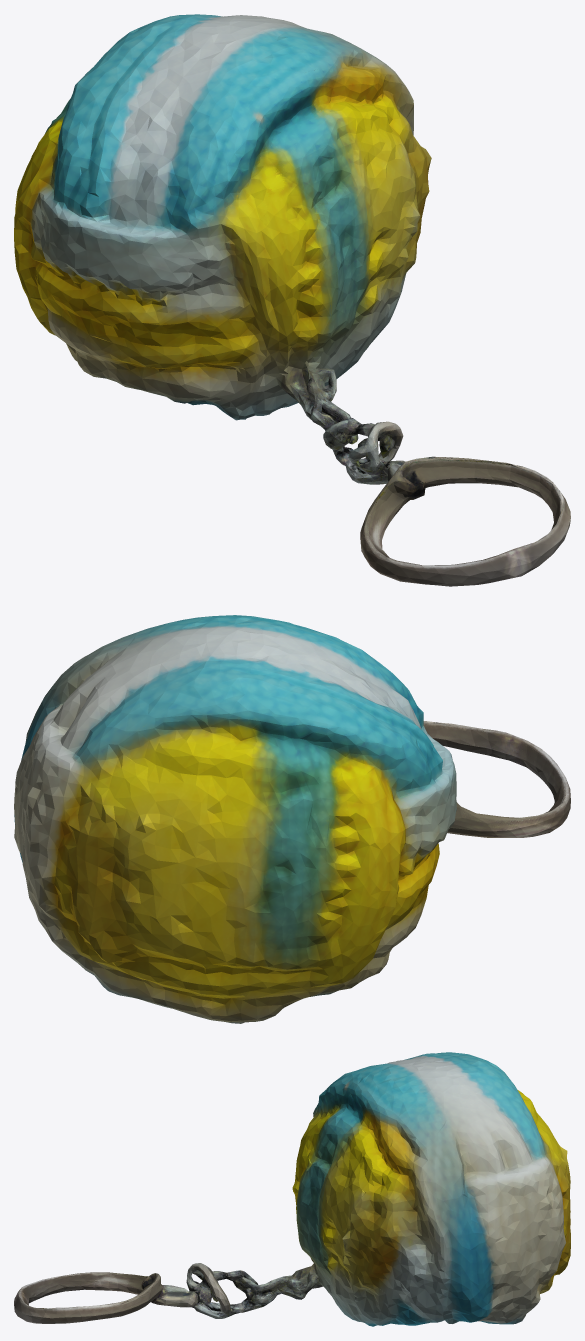
File: baseball.glb
3 views of the same model, one above another, from view 1: azimuth 30°, elevation 25°; view 2: azimuth 150°, elevation 25°; view 3: azimuth 270°, elevation 25° (orthographic). The views are drawn at different scales.
Parts seen in each view (by area): view 1: world; view 2: world; view 3: world.
Part boxes in pixels (<box>): world: <box>14,14,570,586</box>; world: <box>14,615,570,1023</box>; world: <box>14,1052,570,1326</box>.
Size of the model in its own units: 0.5774 by 0.4887 by 0.995.
Materials: 1 (1 with a texture image).
